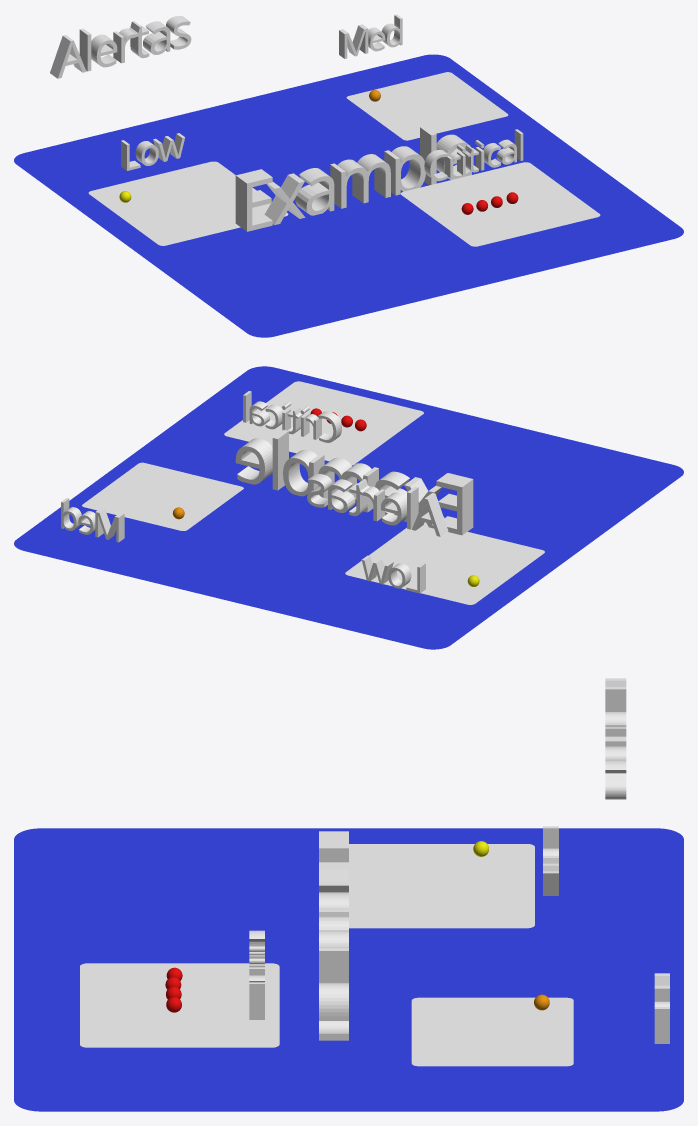
The model's file is telco.glb.
The picture shows the model from 3 angles, top to bottom: view 1: azimuth 30°, elevation 25°; view 2: azimuth 150°, elevation 25°; view 3: azimuth 270°, elevation 25°; orthographic projection. The views are drawn at different scales.
Visible parts, largest first — view 1: Plane, Plane 2, Plane 1, Plane 3, 3D Text 6 - m, 3D Text 6 - E, 3D Text 6 - a, 3D Text 6 - p, 3D Text 6 - x, 3D Text - A, 3D Text 2 - M, 3D Text - a (+5 smaller); view 2: Plane, Plane 1, Plane 2, Plane 3, 3D Text 6 - E, 3D Text 6 - e, 3D Text 6 - p, 3D Text 6 - m, 3D Text - A, 3D Text 6 - l, 3D Text 2 - M, 3D Text - a (+10 smaller); view 3: Plane, Plane 1, Plane 2, Plane 3, 3D Text 6 - e, 3D Text 6 - m, 3D Text 6 - l, 3D Text 6 - E, 3D Text - s, 3D Text 6 - x.
Boxes of the visible parts, x1,y1,x2,y2 form: Plane: (14,54,683,337); Plane 2: (400,162,600,246); Plane 1: (88,161,288,245); Plane 3: (346,72,508,140); 3D Text 6 - m: (330,154,390,208); 3D Text 6 - E: (235,169,272,231); 3D Text 6 - a: (295,168,334,215); 3D Text 6 - p: (384,146,425,195); 3D Text 6 - x: (264,173,305,225); 3D Text - A: (50,35,86,78); 3D Text 2 - M: (339,24,368,58); 3D Text - a: (143,21,170,54); Plane: (14,366,683,649); Plane 1: (345,522,544,604); Plane 2: (224,381,423,465); Plane 3: (82,462,243,530); 3D Text 6 - E: (436,473,473,535); 3D Text 6 - e: (235,438,272,484); 3D Text 6 - p: (283,450,324,496); 3D Text 6 - m: (318,457,378,512); 3D Text - A: (411,493,448,536); 3D Text 6 - l: (272,430,288,490); 3D Text 2 - M: (95,508,124,542); 3D Text - a: (328,479,355,512); Plane: (14,828,683,1111); Plane 1: (349,844,534,928); Plane 2: (80,963,279,1047); Plane 3: (411,997,573,1066); 3D Text 6 - e: (319,983,348,1040); 3D Text 6 - m: (319,909,348,944); 3D Text 6 - l: (319,947,348,982); 3D Text 6 - E: (319,831,348,865); 3D Text - s: (605,760,626,799); 3D Text 6 - x: (319,866,348,892).
Size of the model in its own units: 0.3354 by 0.1088 by 0.3354.
